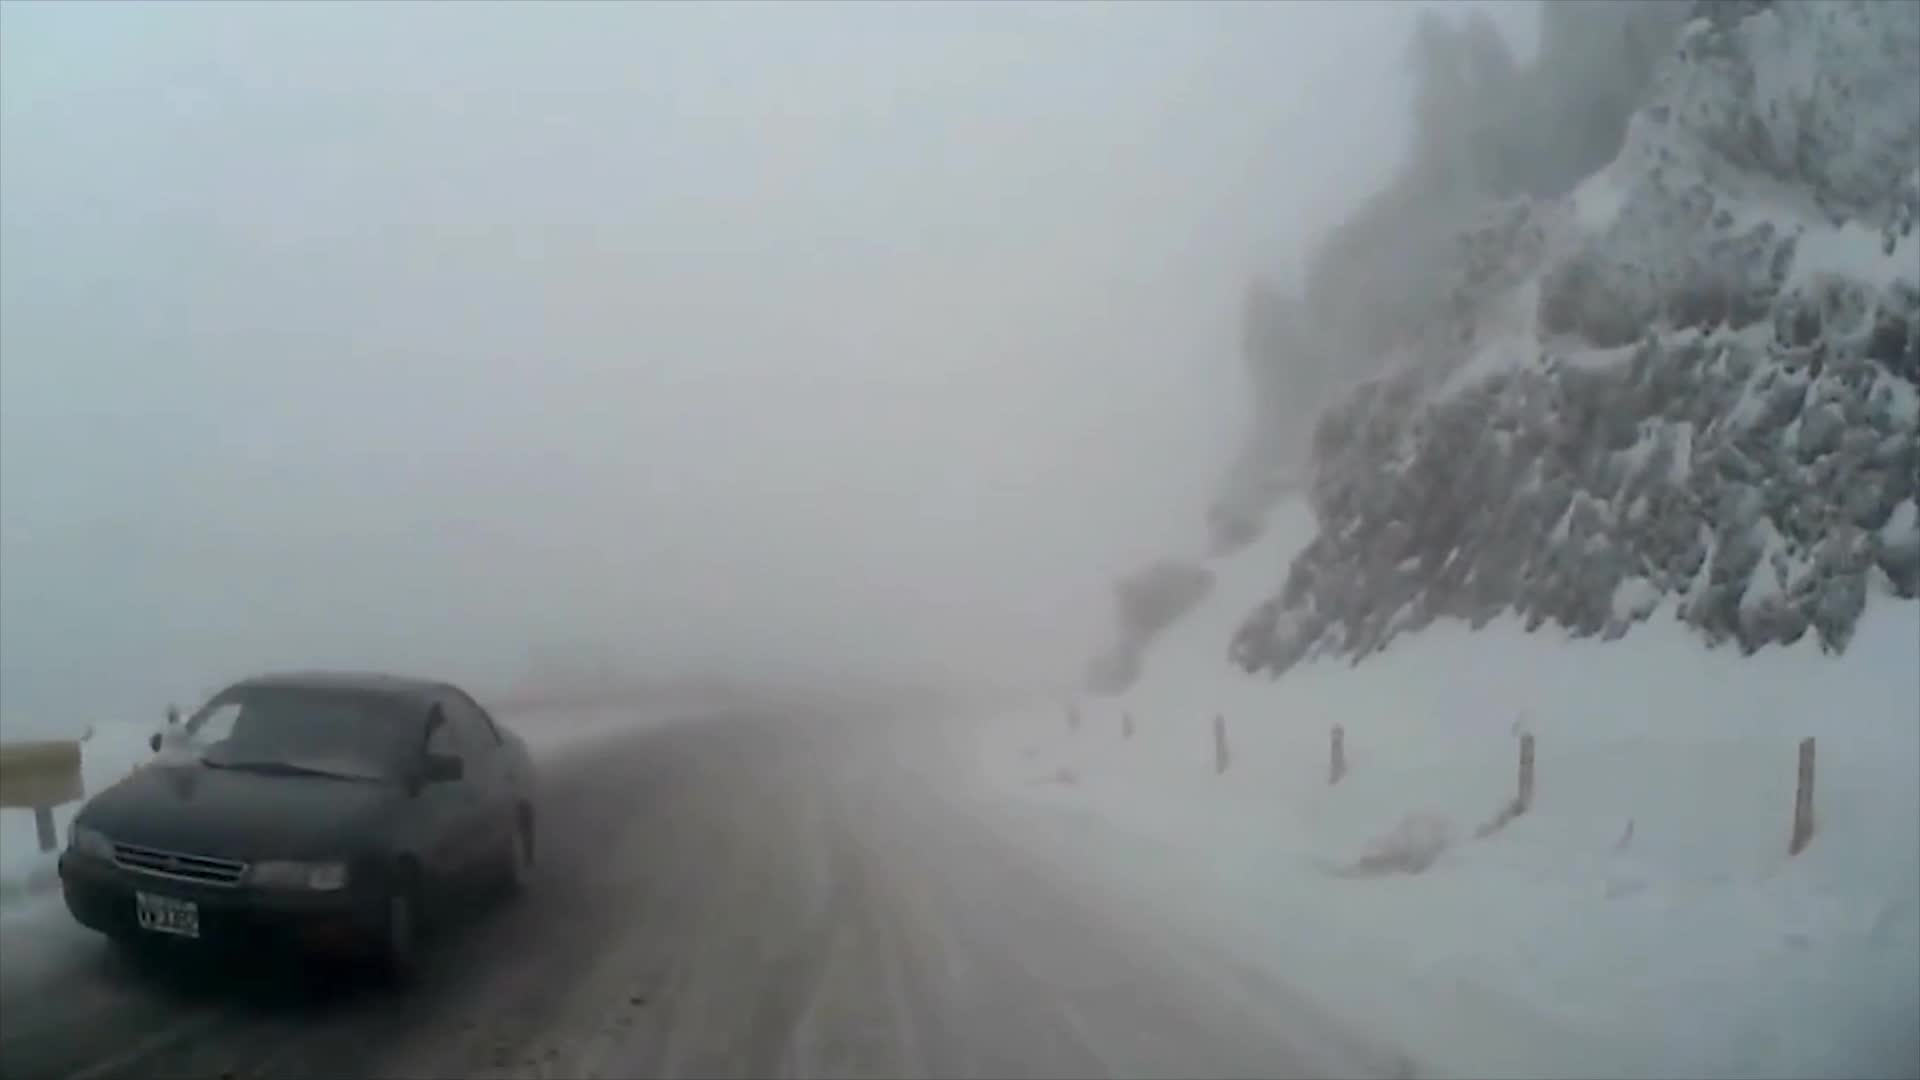vehicle: (49, 670, 542, 986)
